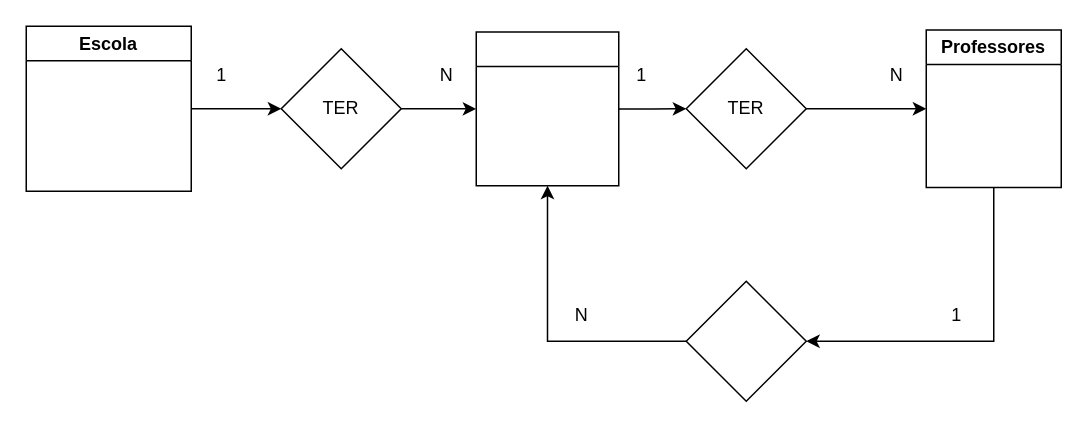
The diagram is 1088 pixels wide and 428 high, and some of its shapes have lost their labels. Here are the shapes that lost their labels. From the top down, the centre of each, then its label:
At point (547, 108): "Turmas".
At point (745, 340): "Ministro".
